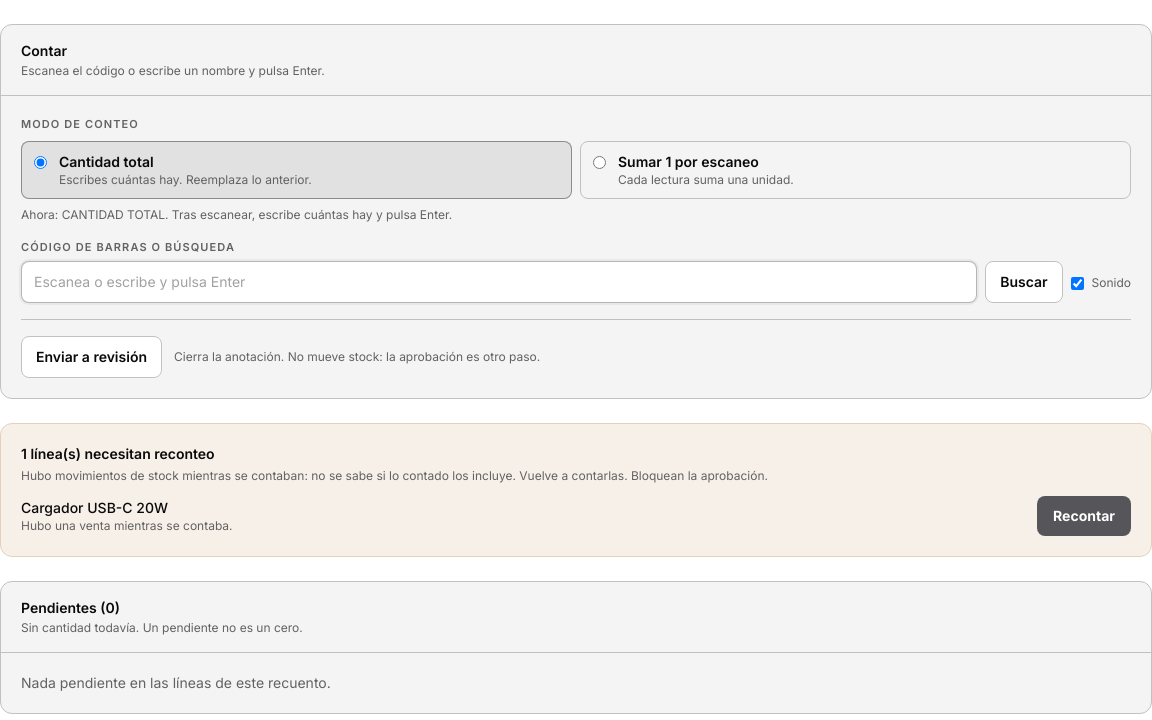
Test: líneas ambiguas › se señalan y piden reconteo; el reconteo las devuelve a «no contado»
This screenshot has width=1152, height=720.
expect the element "necesitan reconteo" shows "Hubo una venta mientras se contaba.": met, box [21, 518, 232, 533]
Click the button with aria-label "Recontar Cargador" at (1084, 516), box [1037, 496, 1131, 536]
(page scrolled)
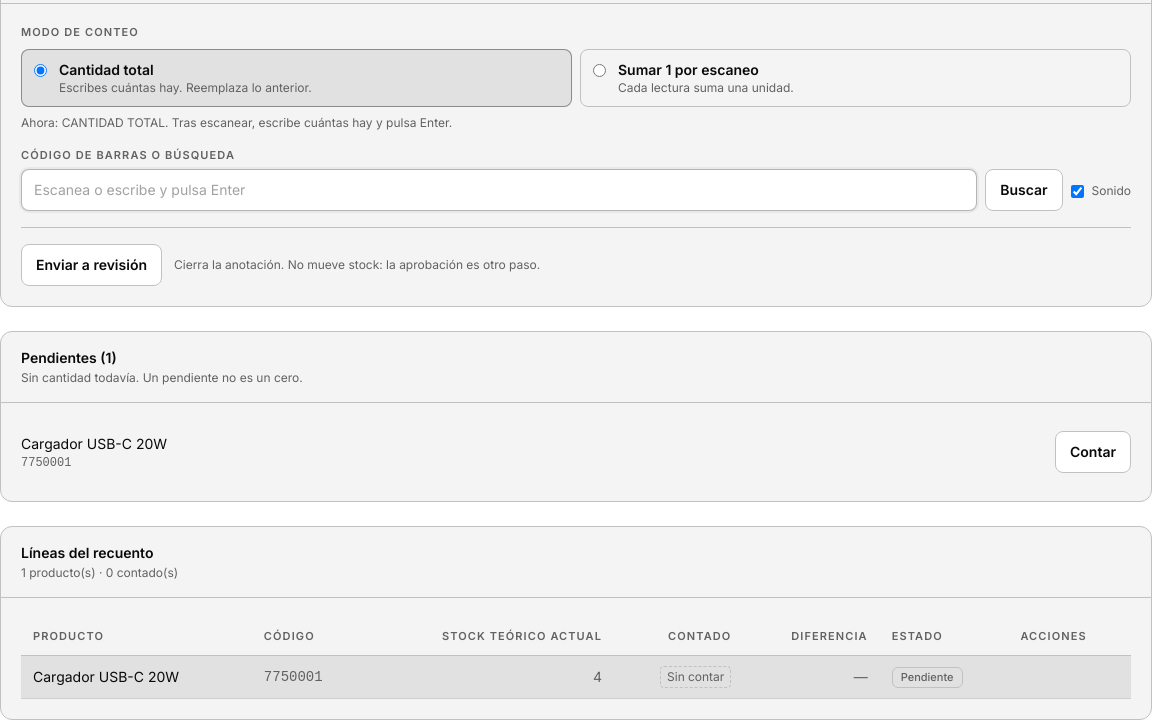
expect the cell with test id "counted-cell" reads "Sin contar": met, box [667, 669, 724, 684]
